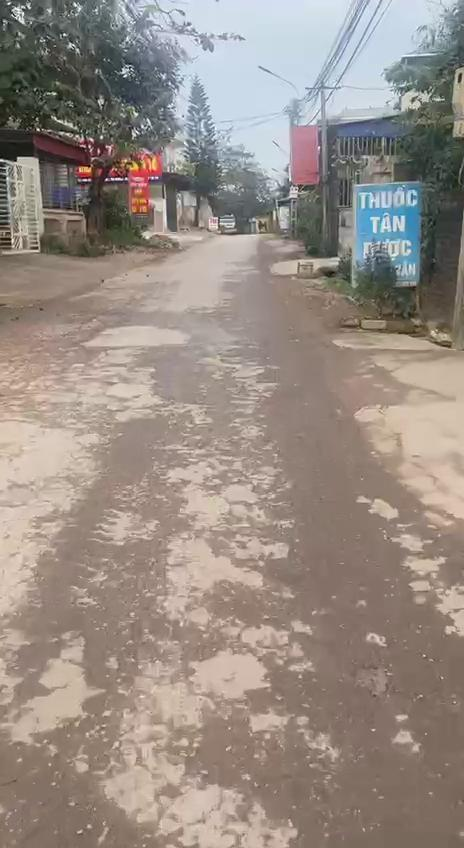pothole: (348, 660, 396, 704)
